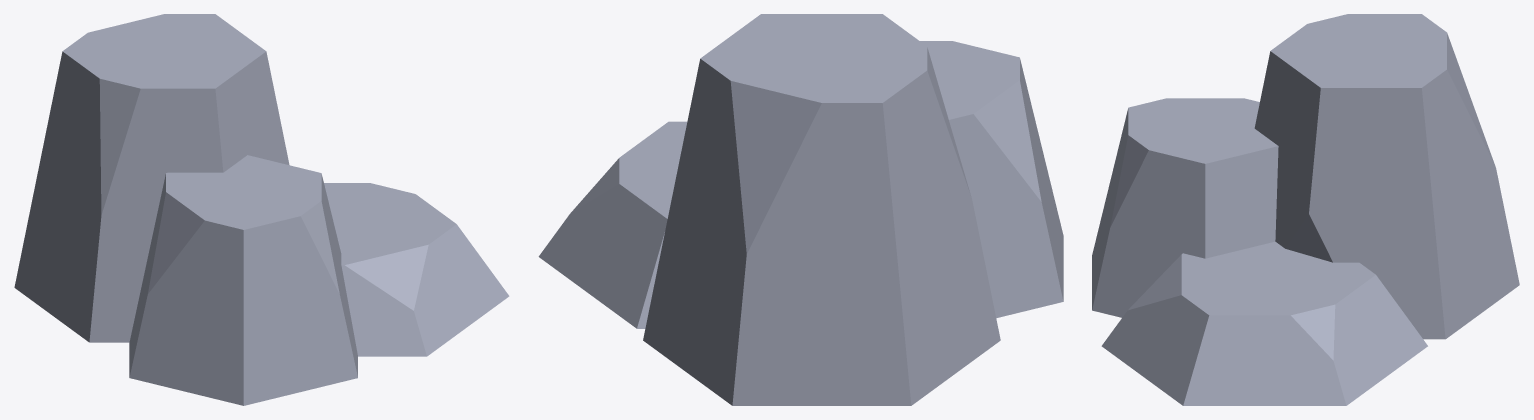
Rendered from rocks.dae.
3 renders of one model, left to right at view 1: azimuth 30°, elevation 25°; view 2: azimuth 150°, elevation 25°; view 3: azimuth 270°, elevation 25°, orthographic. The views are drawn at different scales.
Visible parts, largest first — view 1: rocks; view 2: rocks; view 3: rocks.
Boxes of the visible parts, x1,y1,x2,y2 form: rocks: (14, 14, 509, 405); rocks: (538, 14, 1063, 405); rocks: (1092, 14, 1519, 405).
Size of the model in its own units: 0.6531 by 0.4 by 0.6623.
